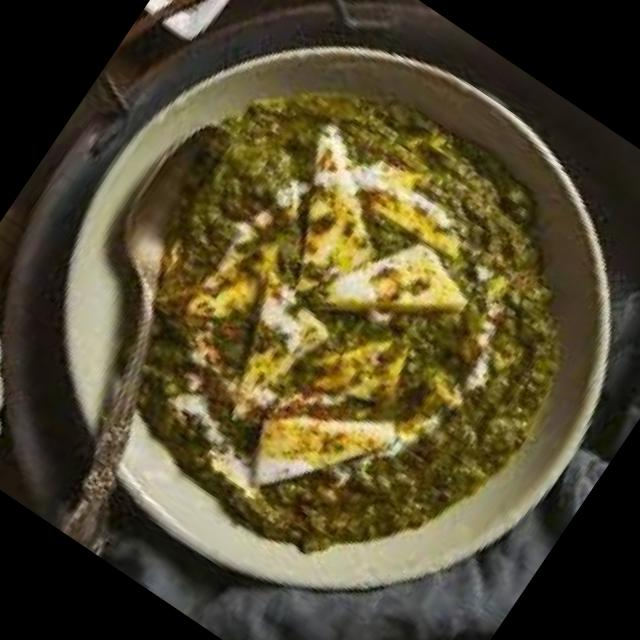palak_paneer: (39, 20, 640, 633)
